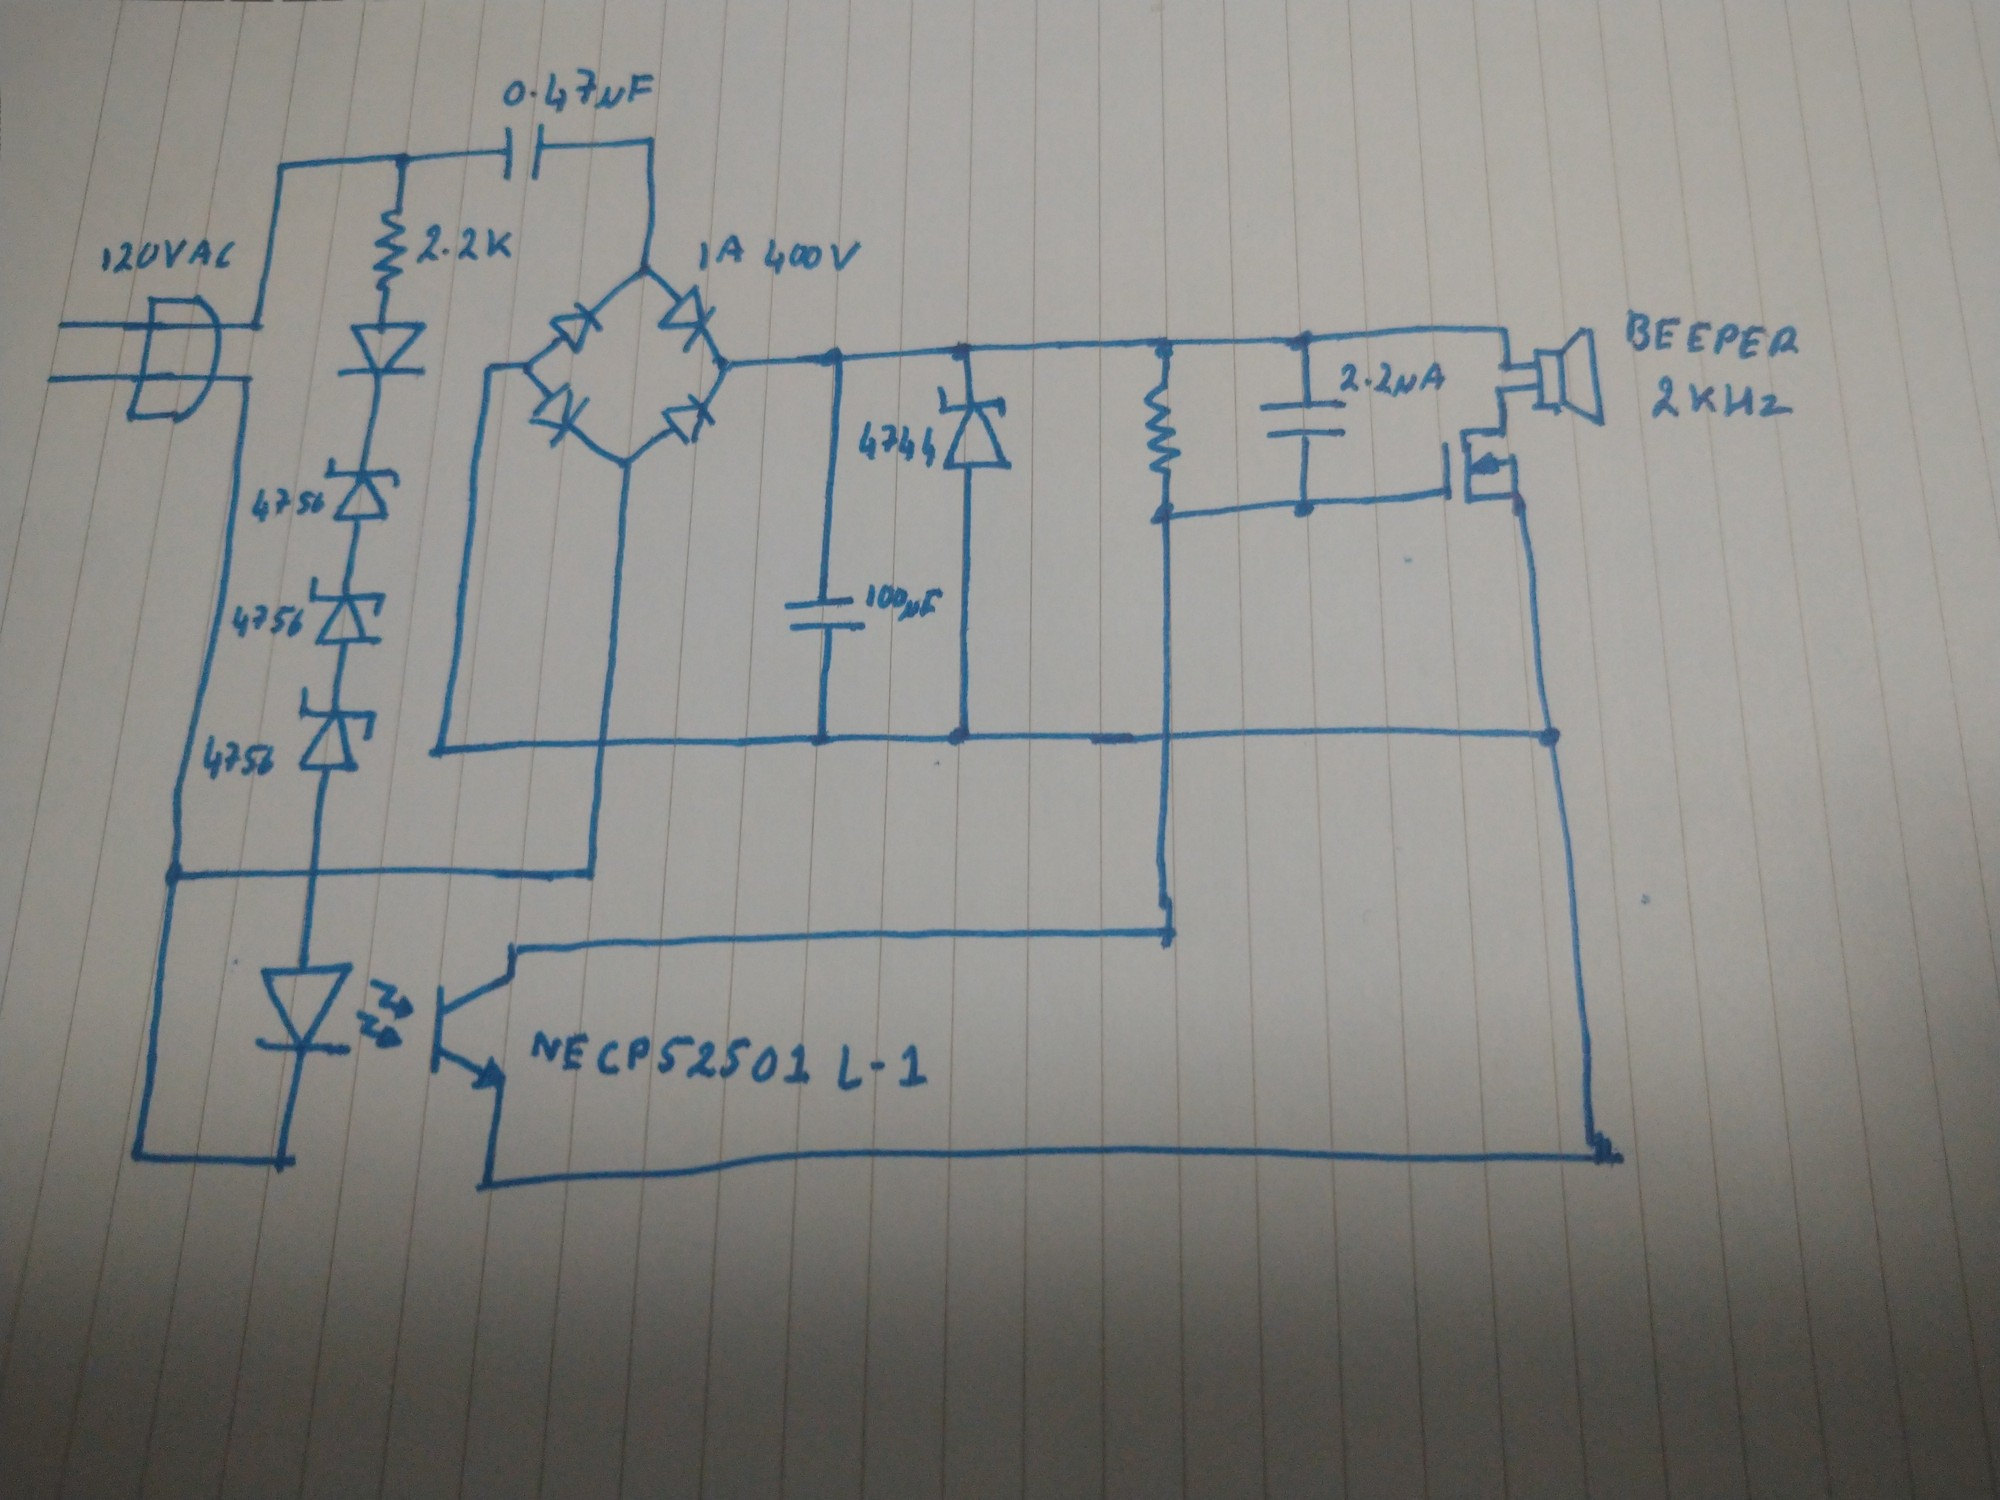capacitor.unpolarized: (778, 583, 868, 648), (493, 120, 561, 187), (1254, 399, 1353, 444)
crossover: (294, 863, 331, 884), (591, 730, 616, 758), (1153, 725, 1180, 748)
diode: (294, 685, 380, 778), (935, 384, 1019, 474), (306, 574, 389, 659), (332, 318, 431, 388), (321, 454, 405, 526), (524, 378, 594, 451), (657, 284, 720, 355), (658, 391, 721, 449), (548, 296, 605, 355)
junction: (1573, 1123, 1630, 1174), (1153, 919, 1191, 953), (816, 343, 855, 377), (946, 336, 981, 370), (1283, 326, 1321, 358), (157, 859, 195, 890), (1143, 331, 1180, 362), (1531, 722, 1567, 753), (942, 720, 978, 752), (1290, 493, 1323, 523), (1145, 499, 1178, 529), (468, 1171, 501, 1201), (123, 1141, 154, 1171), (805, 725, 836, 753), (269, 1145, 298, 1177), (628, 260, 660, 287), (502, 934, 531, 963), (427, 737, 454, 767), (517, 353, 543, 383), (387, 147, 417, 173), (707, 355, 740, 378), (573, 860, 603, 886), (614, 447, 639, 476), (269, 156, 296, 180), (639, 129, 663, 154), (479, 358, 506, 380), (243, 314, 266, 337), (1491, 318, 1517, 340), (236, 369, 260, 391), (1494, 355, 1517, 377), (1490, 381, 1510, 399)
optocoupler: (252, 960, 524, 1097)
resistor: (1139, 380, 1187, 474), (369, 203, 409, 293)
socket: (124, 290, 224, 425)
speaker: (1529, 323, 1613, 432)
terminal: (39, 370, 63, 391), (47, 317, 71, 332)
text: (528, 1026, 934, 1097), (1624, 306, 1805, 362), (498, 65, 658, 118), (1646, 372, 1797, 427), (94, 236, 239, 279), (411, 221, 518, 269), (1335, 358, 1457, 400), (854, 419, 940, 474), (762, 235, 865, 280), (198, 733, 279, 783), (863, 580, 943, 626), (247, 485, 328, 525), (227, 603, 306, 640), (696, 233, 746, 276)
transistor: (1435, 422, 1528, 507)
